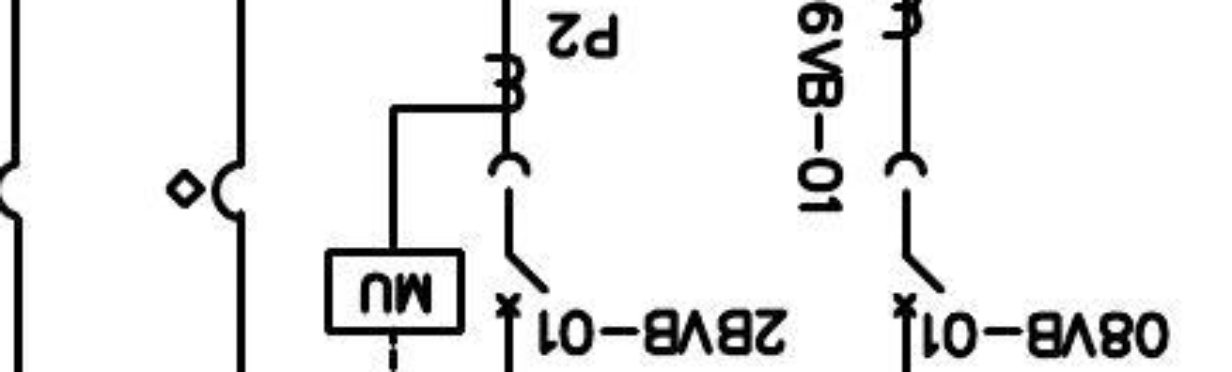MU: (323, 246, 465, 337)
